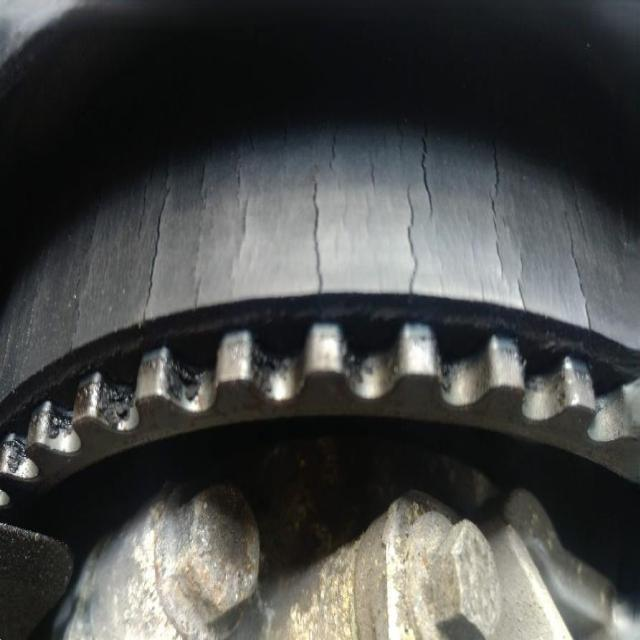Tear: (128, 164, 186, 332), (546, 206, 605, 332), (477, 139, 514, 285), (295, 159, 334, 295), (390, 184, 426, 298), (411, 124, 446, 223), (320, 126, 346, 177)
